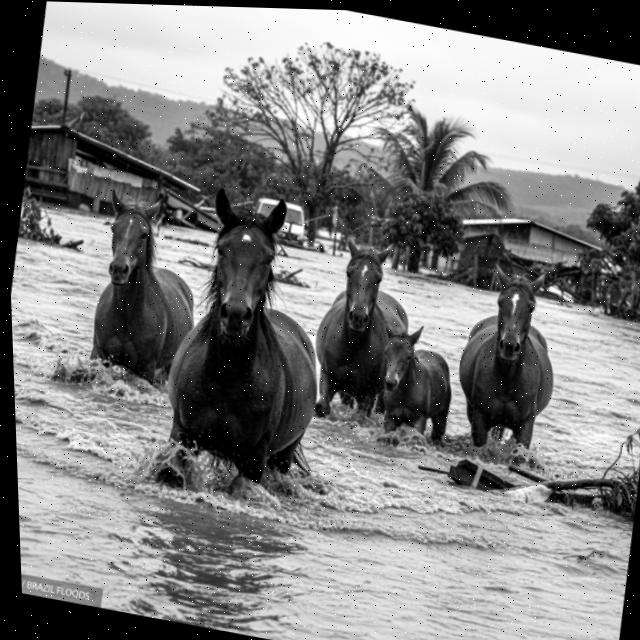horse: (147, 179, 355, 498), (57, 175, 216, 399), (433, 247, 581, 471), (296, 219, 433, 440), (352, 305, 476, 460)
